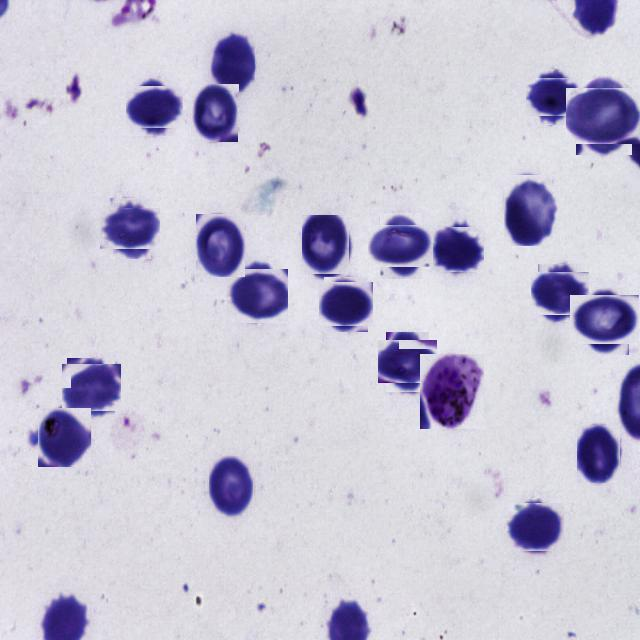red blood cell: (571, 84, 637, 150), (504, 175, 560, 246), (575, 290, 634, 350), (228, 266, 286, 324), (196, 213, 246, 277), (38, 408, 91, 467), (374, 219, 428, 273), (302, 214, 350, 274), (64, 361, 118, 414), (208, 455, 254, 517), (510, 501, 562, 554), (191, 84, 238, 142), (382, 336, 434, 388), (208, 34, 254, 92), (105, 203, 156, 254), (534, 268, 586, 318), (577, 424, 621, 483), (130, 82, 180, 132), (432, 224, 482, 274), (322, 280, 371, 329), (530, 74, 578, 120)
schizont: (420, 354, 484, 429)
